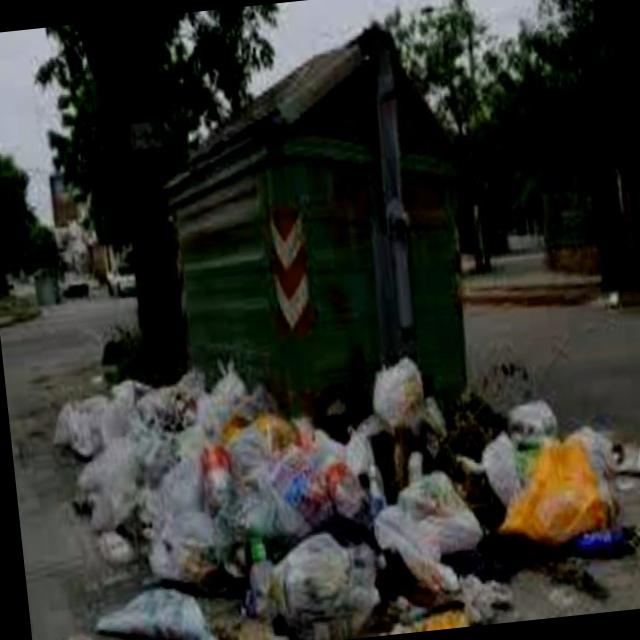high trash: (53, 357, 640, 640)
